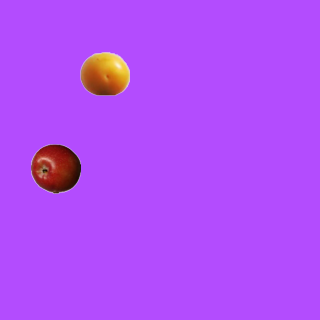Apple Braeburn: (30, 143, 80, 193)
Cherry Wax Yellow: (79, 48, 129, 98)
